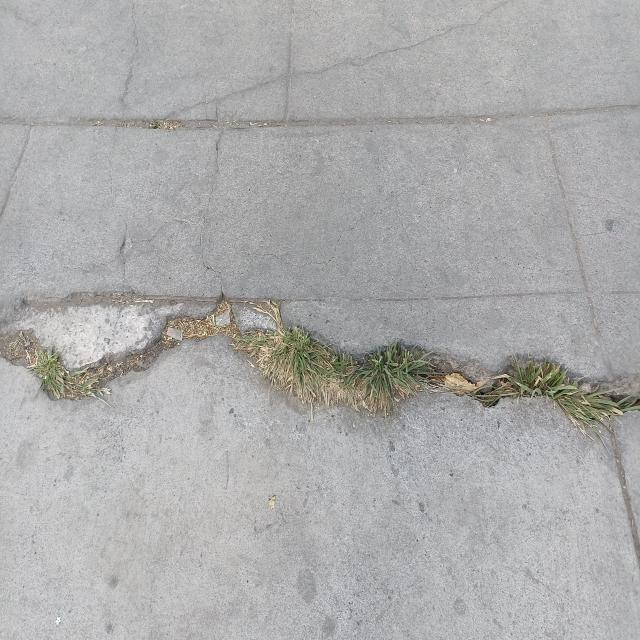hole: (0, 289, 640, 426)
